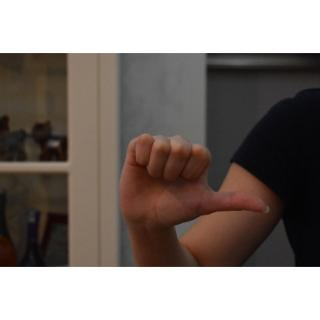DAD: (114, 128, 274, 244)
